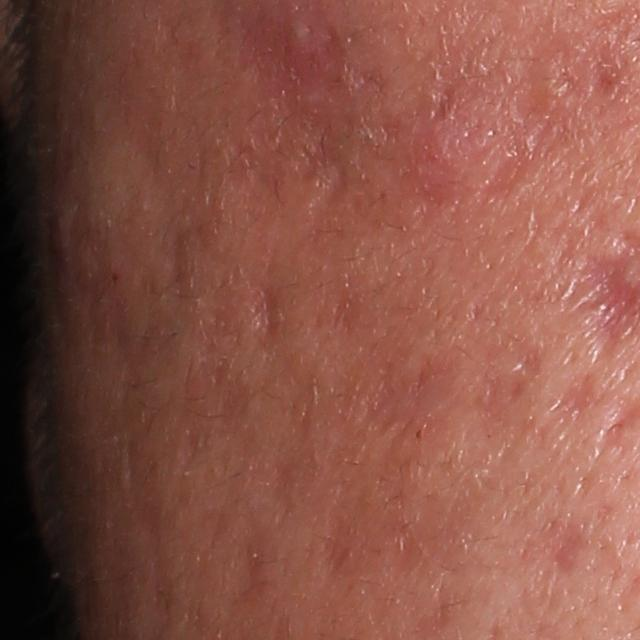atrophic_scar: (321, 58, 443, 247), (486, 16, 590, 196), (310, 481, 458, 583), (334, 340, 461, 442), (220, 516, 289, 614), (474, 340, 538, 423), (245, 264, 289, 378), (267, 440, 325, 509), (541, 504, 592, 574), (542, 366, 602, 412), (592, 47, 630, 101)
